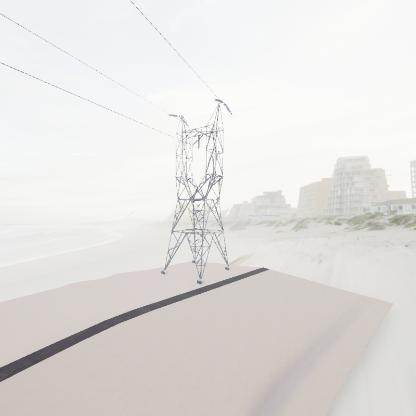tower: (158, 97, 233, 286)
